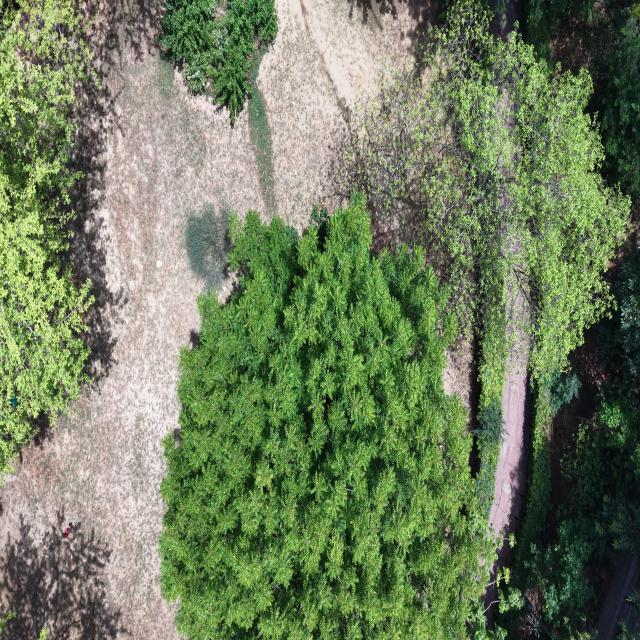DRY_AREA: (0, 0, 265, 639), (483, 330, 529, 625), (489, 329, 530, 582), (490, 346, 529, 580), (490, 351, 529, 536), (443, 338, 479, 429)
VEGETATION_TREE: (160, 0, 639, 639), (161, 6, 639, 638), (356, 8, 634, 637), (160, 196, 493, 639), (352, 6, 629, 507), (353, 7, 629, 377), (515, 249, 639, 637), (0, 0, 91, 472), (516, 424, 634, 637), (522, 0, 639, 198), (514, 371, 593, 633), (576, 247, 639, 553), (160, 0, 277, 124), (514, 371, 580, 586), (520, 0, 639, 77), (527, 515, 601, 637), (475, 275, 508, 518), (514, 385, 553, 587), (603, 3, 639, 199), (601, 248, 639, 401), (522, 0, 594, 66), (248, 46, 276, 214), (469, 568, 523, 639), (185, 205, 228, 290), (475, 390, 503, 517), (597, 488, 639, 555), (548, 371, 581, 416), (0, 612, 16, 634), (619, 622, 639, 639), (0, 612, 15, 633)
